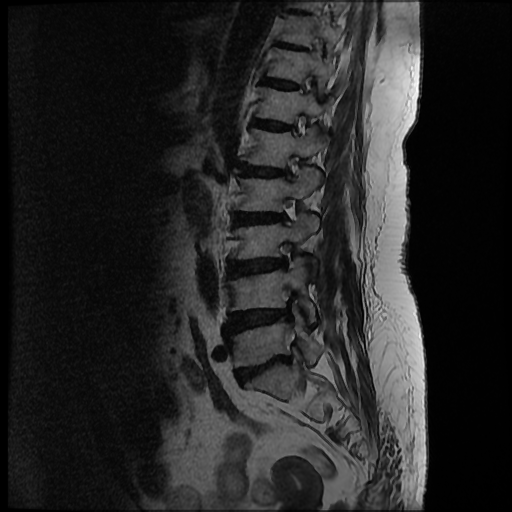LFS0: (271, 190, 310, 230)
LFS2: (265, 231, 302, 281)
